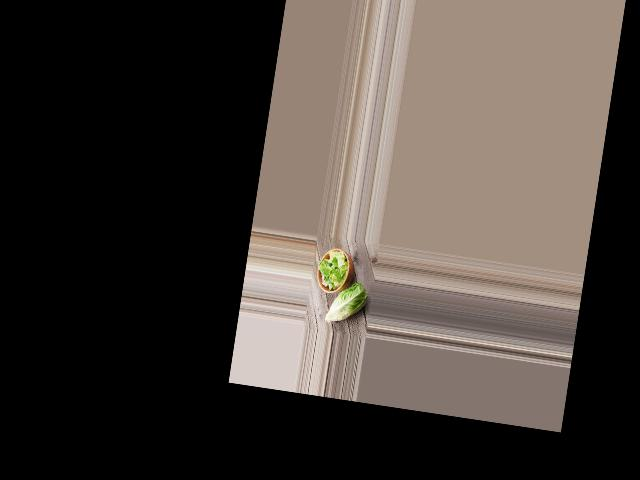lettuce: (324, 278, 370, 326)
